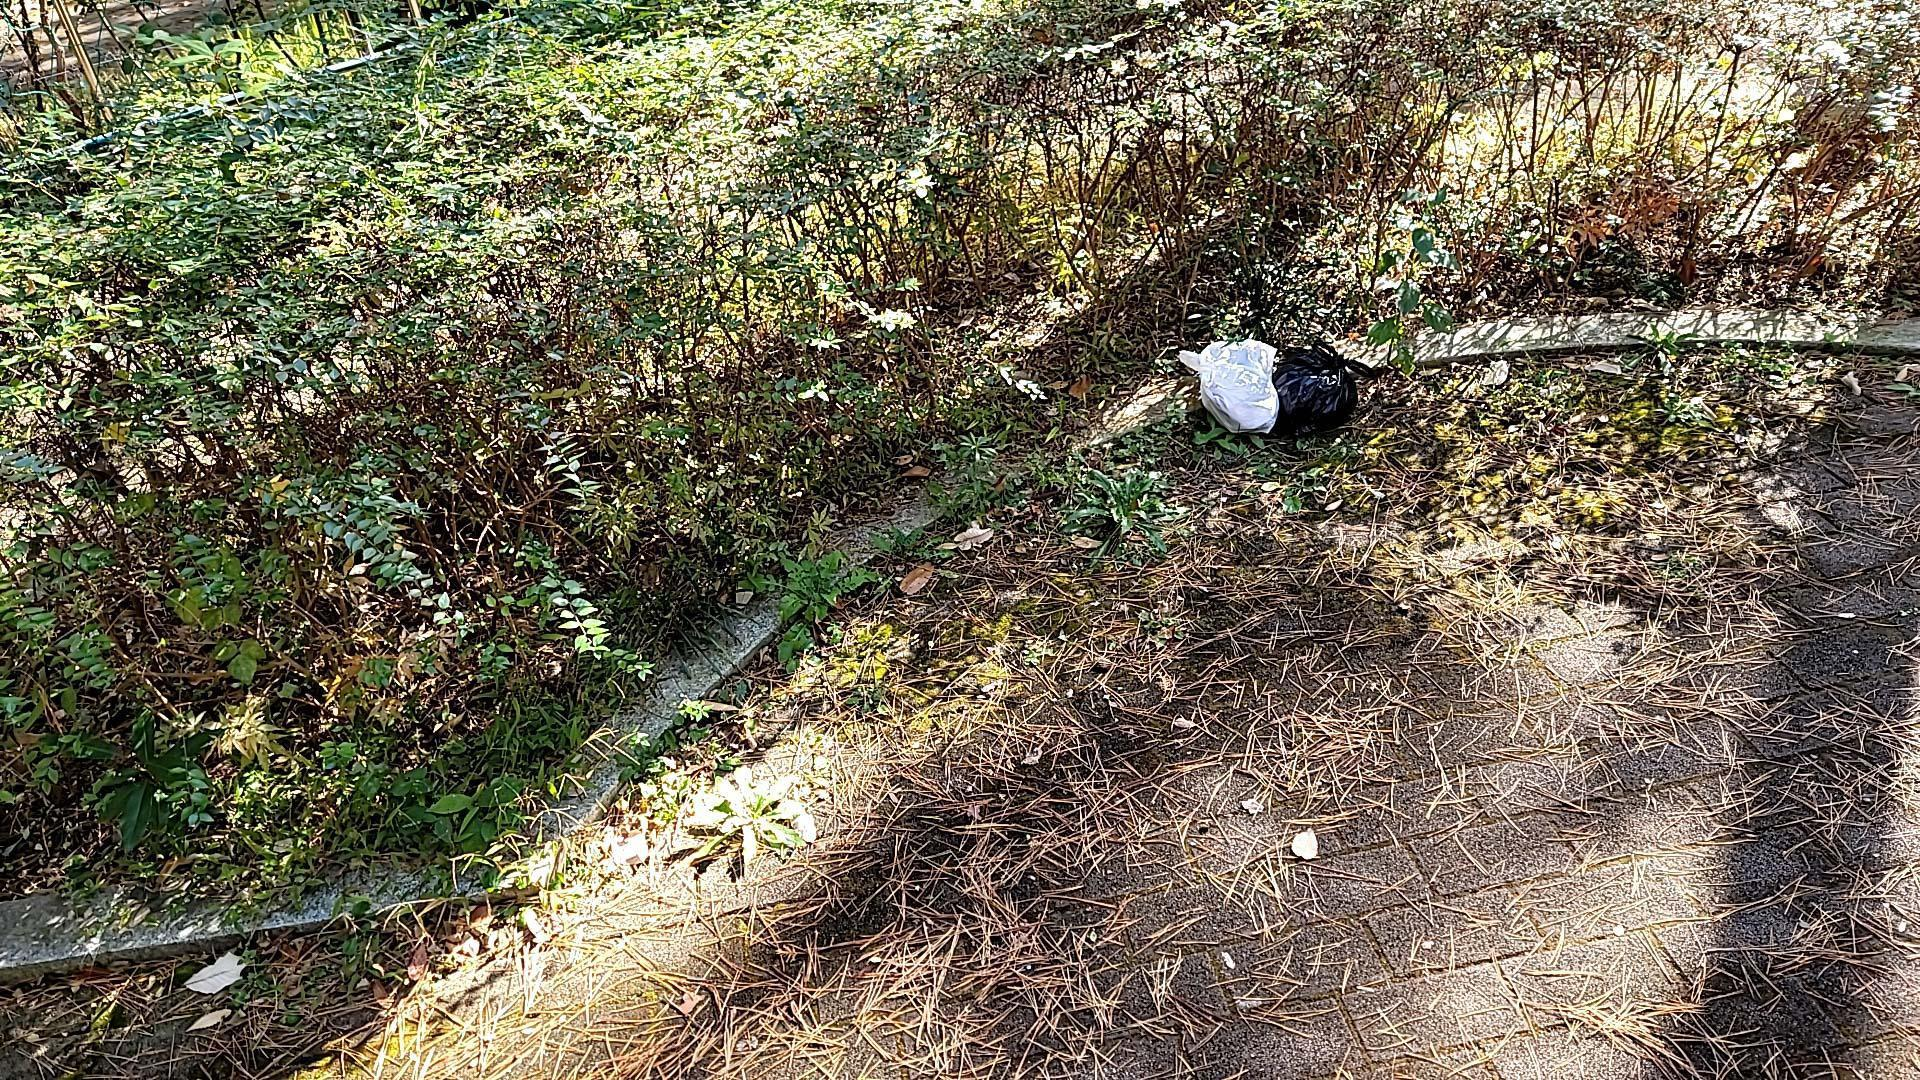black_bag: (1270, 343, 1358, 434)
white_bag: (1175, 328, 1283, 440)
